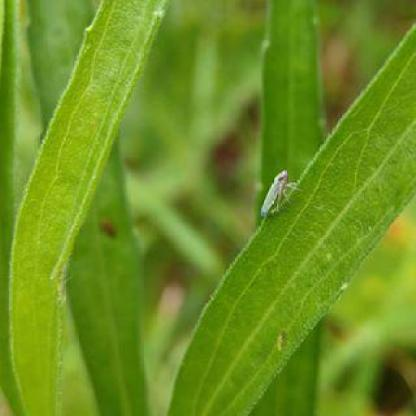green-leafhopper: (258, 171, 294, 220)
